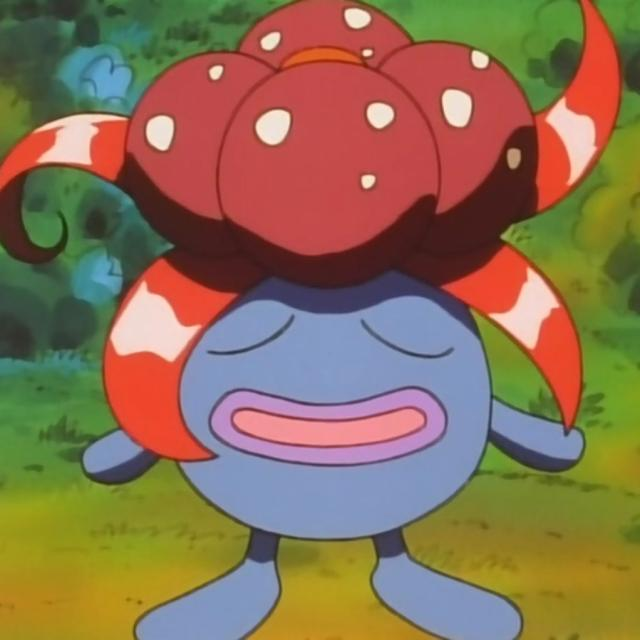Gloom: (95, 0, 545, 640)
